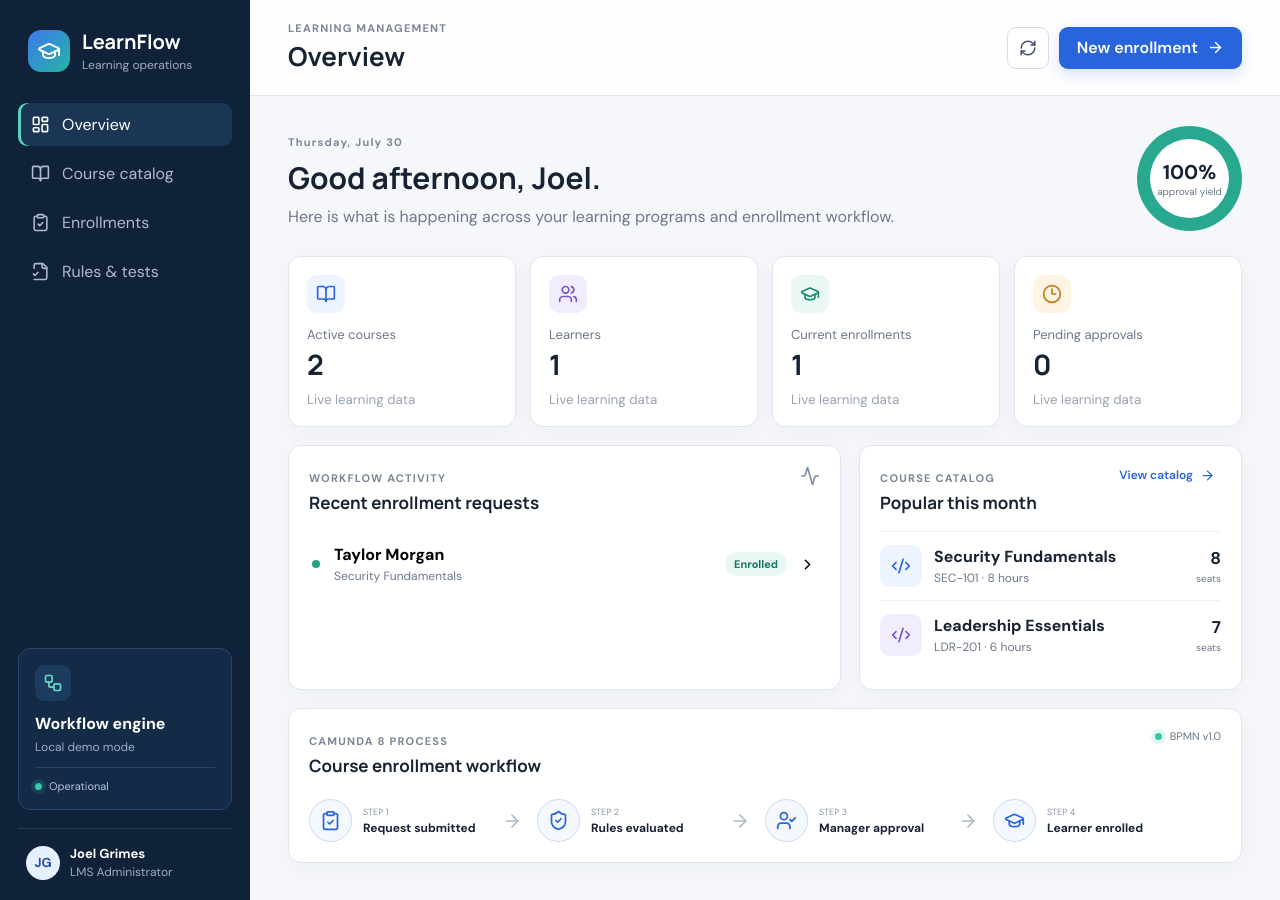
Test: App › filters the course catalog by the search query
The width and height of the screenshot is (1280, 900).
Expected: the heading "Good afternoon, Joel." is shown, x1=288 y1=157 x2=601 y2=198
Click the button "Course catalog". click: (125, 174)
box: x1=18 y1=152 x2=232 y2=195
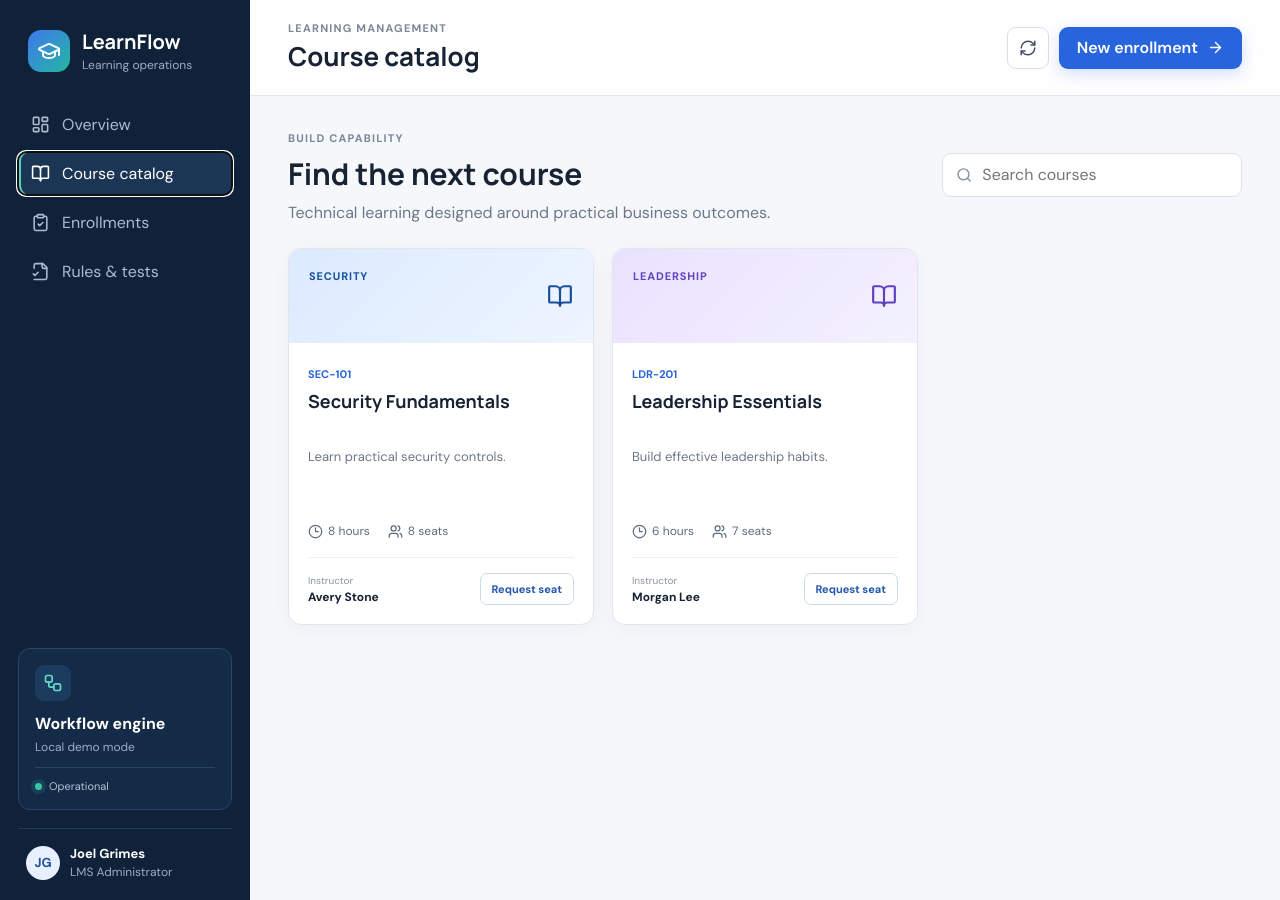
Type "security" into the field with placeholder "Search courses". click: (1104, 174)
box: x1=980 y1=154 x2=1228 y2=196
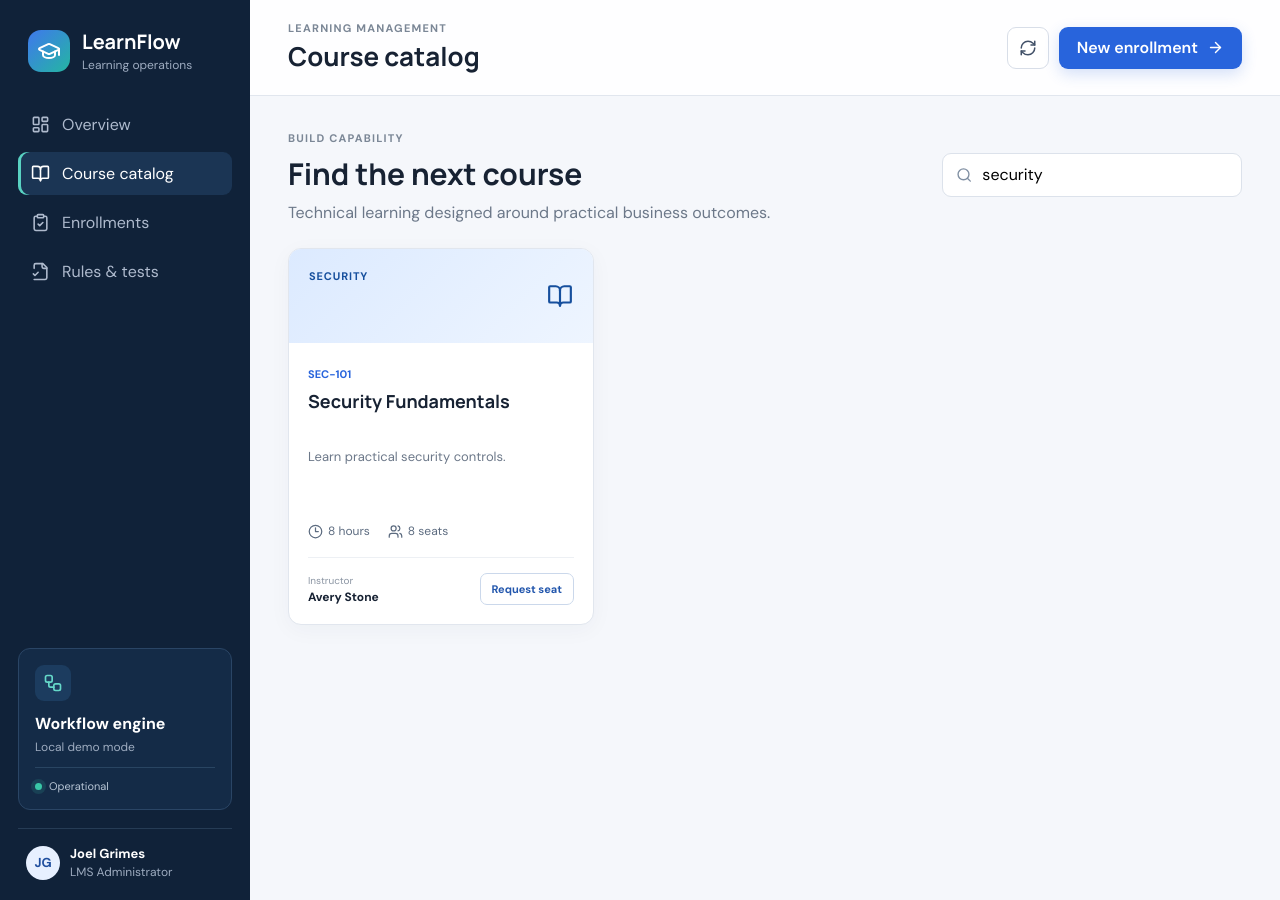
Expected: the heading "Security Fundamentals" is shown, x1=308 y1=389 x2=510 y2=413
Expected: the heading "Leadership Essentials" is gone
